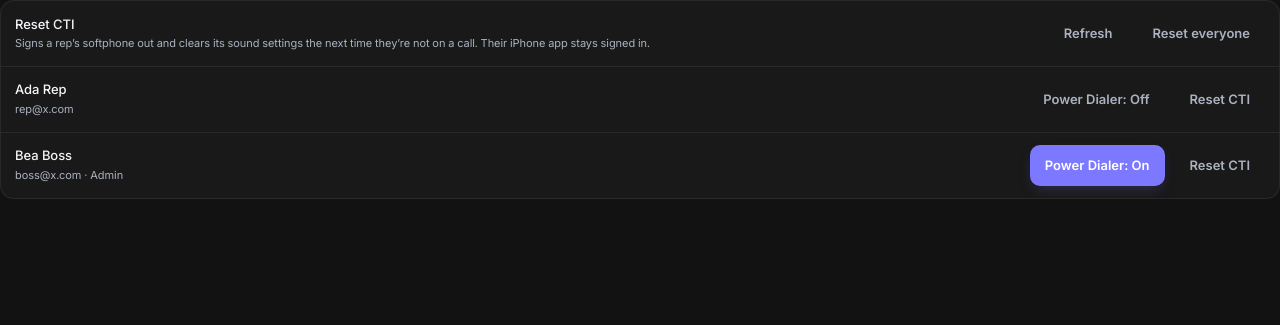
Scenario: TeamPanel — Reset CTI › a failed "reset everyone" says so
Click the button "Reset everyone" at (1201, 33), box [1138,13,1265,54]
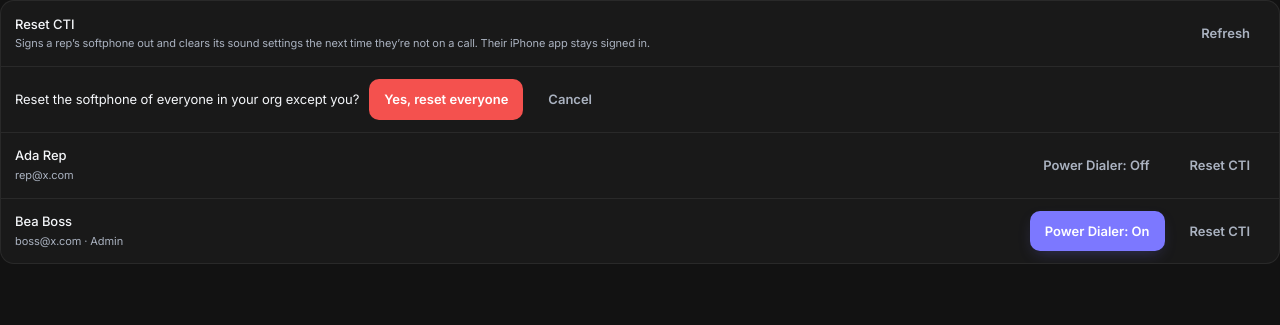
Click the button "Yes, reset everyone" at (446, 99), box [369,79,523,120]
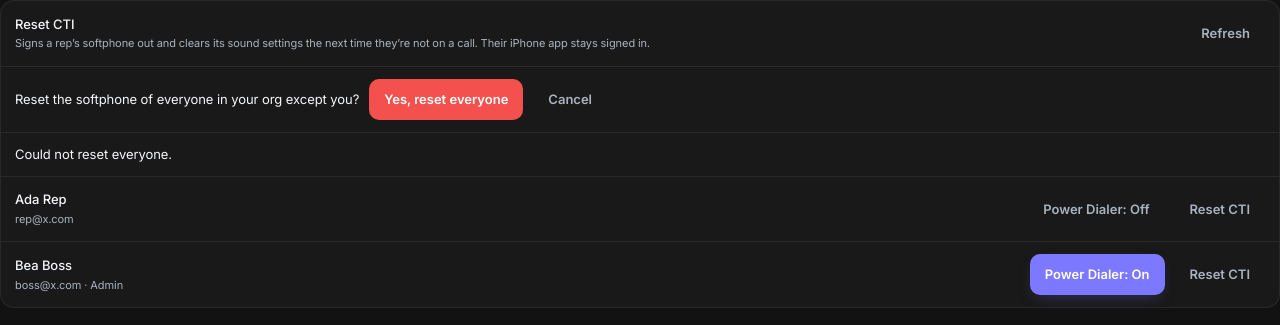
Now the text "Could not reset everyone." is shown, box [15,145,172,164]
